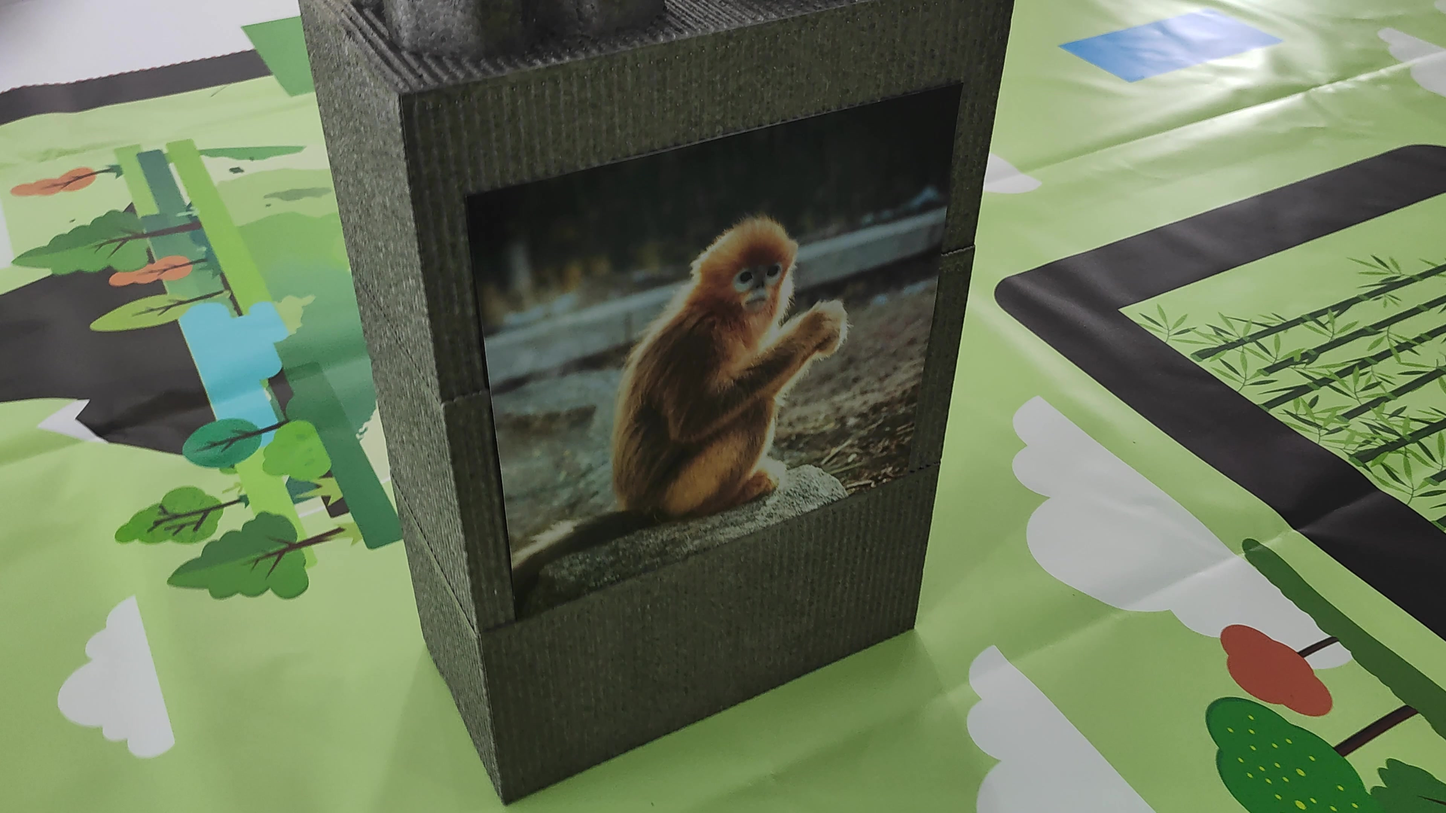monkey: (496, 211, 879, 588)
